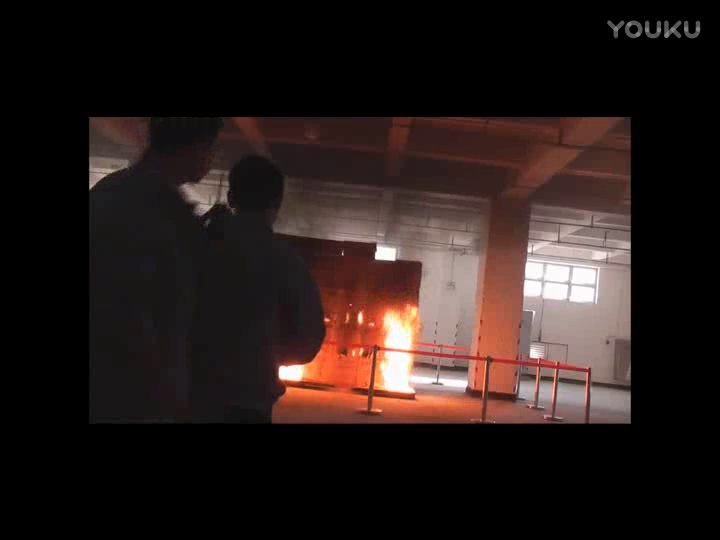fire: (373, 299, 420, 393), (281, 360, 312, 384)
